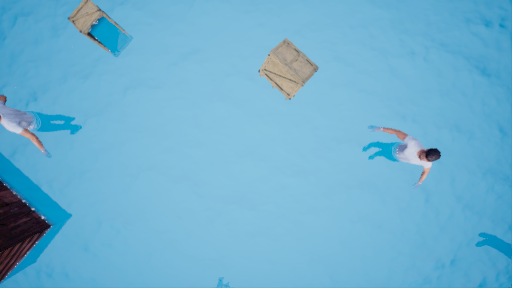person: (1, 94, 86, 162), (368, 123, 441, 190)
